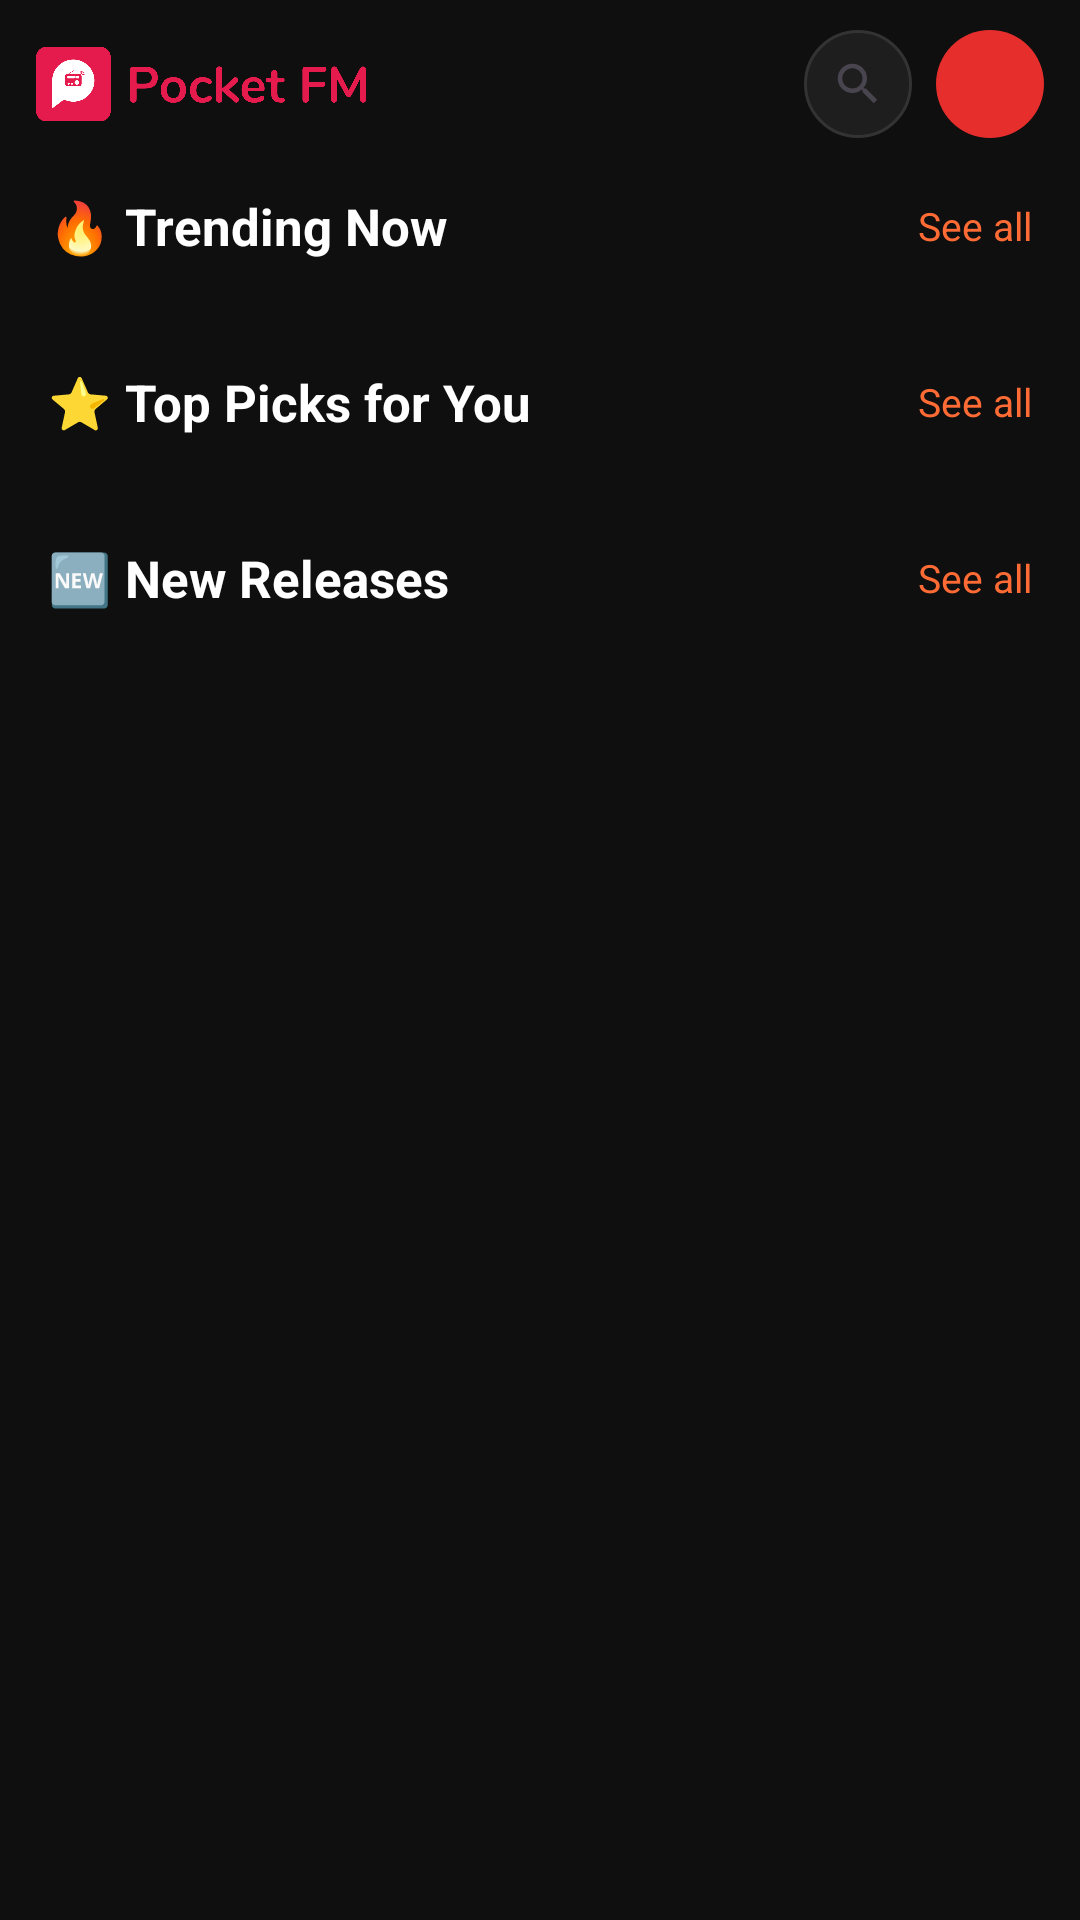

Icons on this 1080px x 1920px Android screen, each with the point to tap as (x=x, y=y):
Search: (x=858, y=84)
